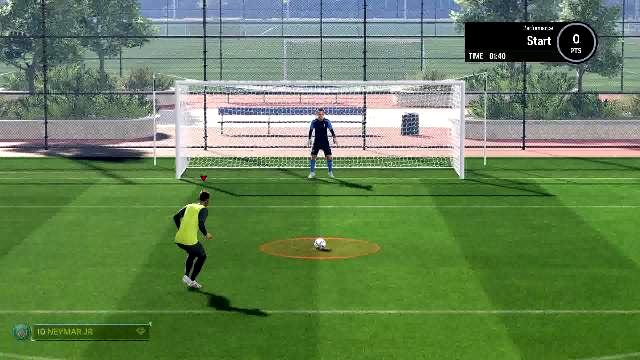bottom-left: (180, 134, 274, 178)
bottom-right: (364, 134, 456, 178)
center-down: (274, 132, 366, 178)
center-up: (275, 85, 367, 131)
circle: (264, 236, 382, 260)
football: (12, 322, 30, 344), (312, 238, 328, 251)
goalkeeper: (306, 106, 342, 180)
player: (170, 185, 218, 294)
top-left: (181, 87, 273, 133)
top-right: (365, 87, 457, 133)
